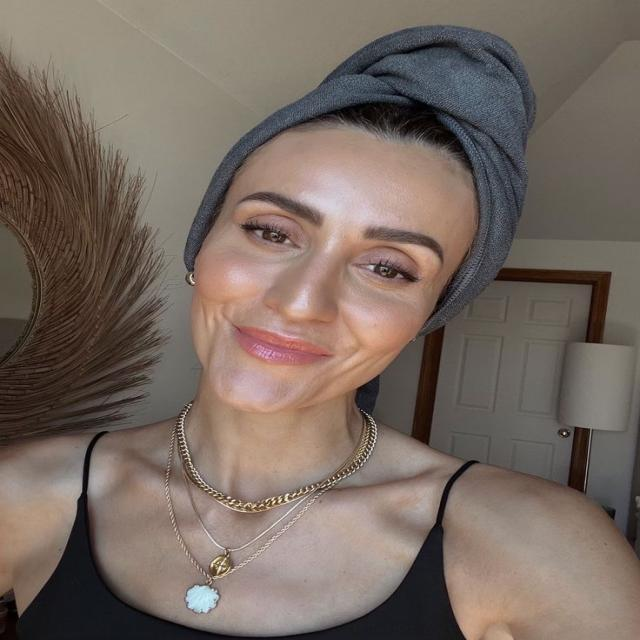dry: (189, 259, 304, 341), (289, 134, 422, 190), (322, 306, 404, 374), (256, 356, 330, 414)
